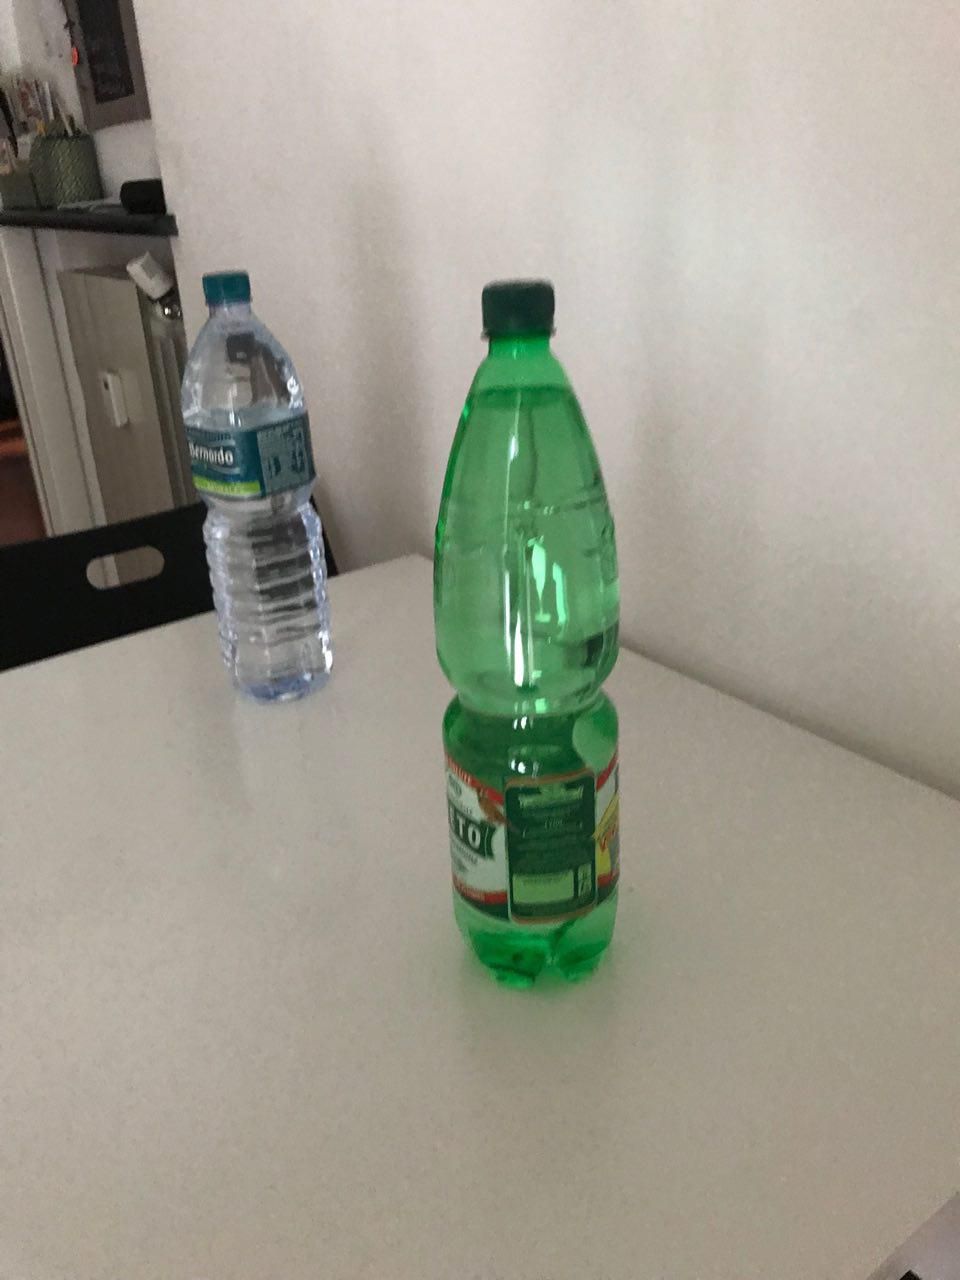san_bernardo: (179, 270, 335, 706)
